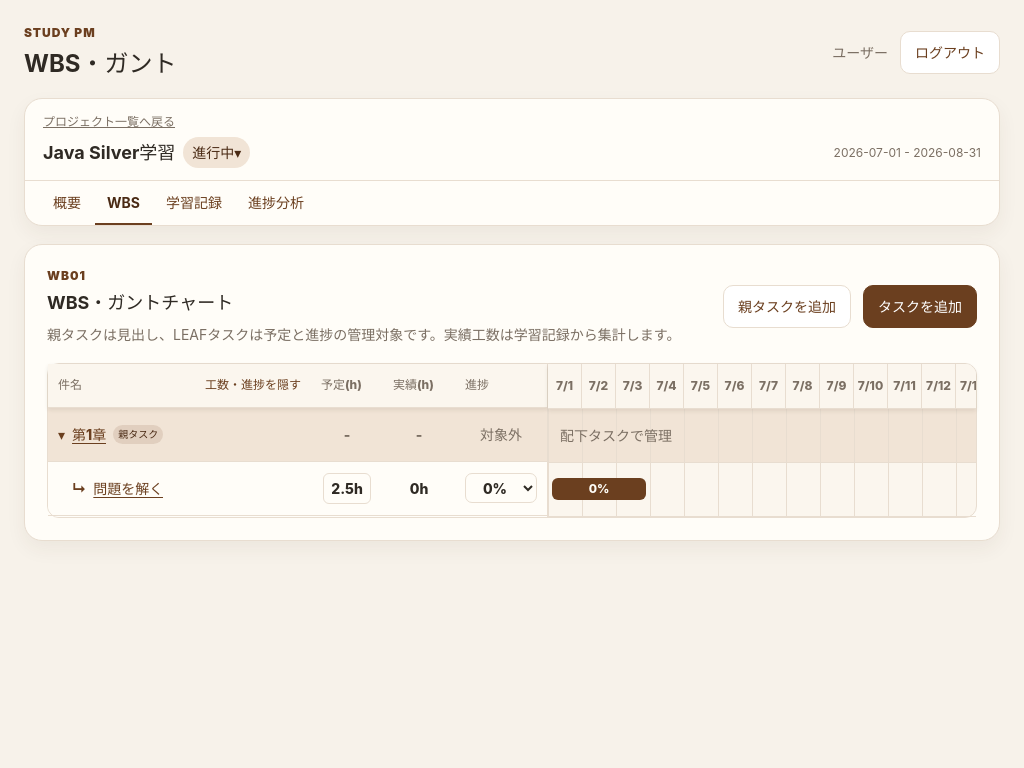
WbsPage › 工数・進捗列を切り替えてガント表示領域を広げられる
Click the button "工数・進捗を隠す" at (253, 385), box 205,372 -> 301,398
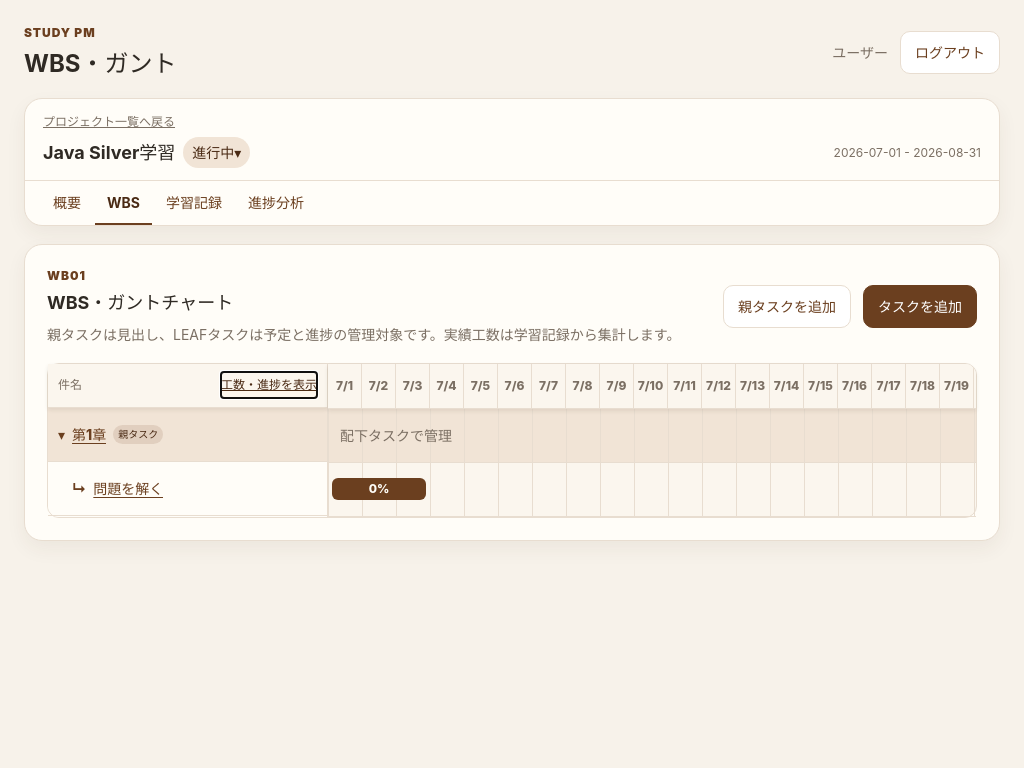
expect the column heading "予定(h)" is gone: met
expect the dropdown labelled "問題を解くの進捗率" is gone: met
Click the button "工数・進捗を表示" at (269, 385), box 221,372 -> 317,398
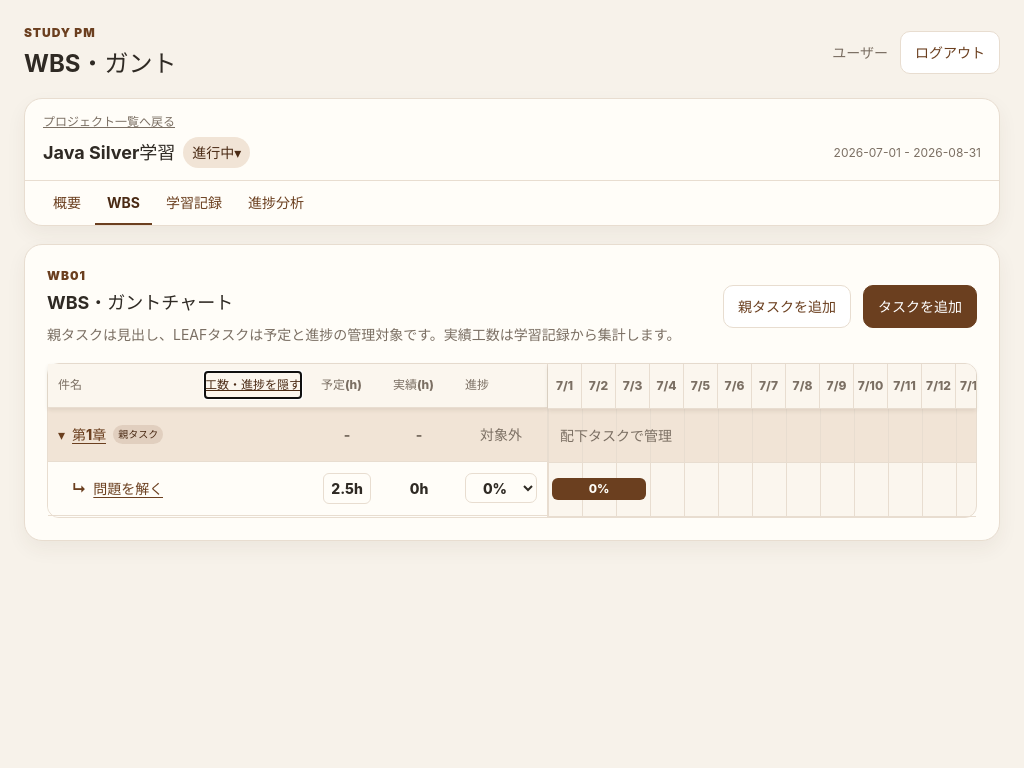
expect the column heading "予定(h)" is shown: met, box 321,377 -> 362,392
